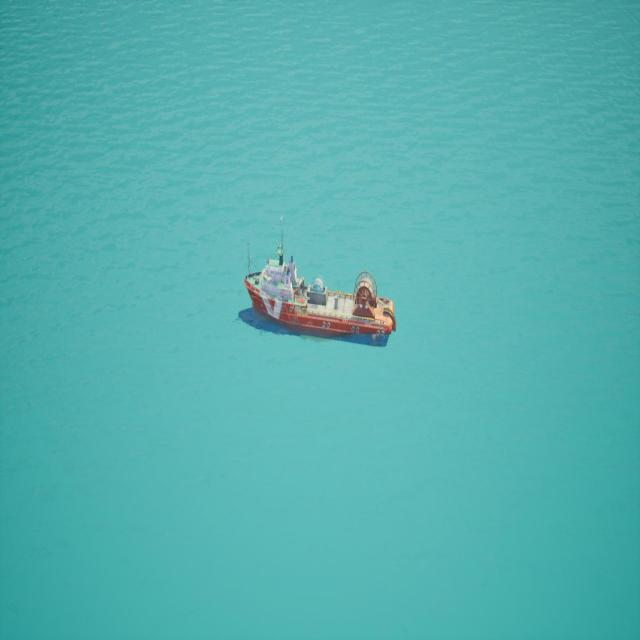tug boat: (242, 216, 402, 348)
